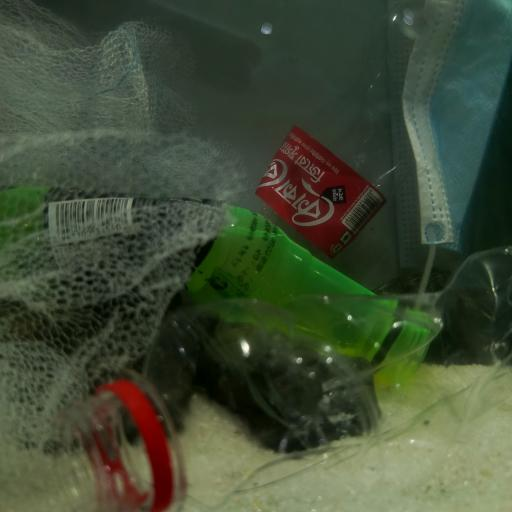mask: (399, 0, 512, 261)
net: (0, 0, 250, 466)
plastic_bottle: (61, 253, 512, 511), (2, 183, 432, 383), (250, 21, 396, 262)
